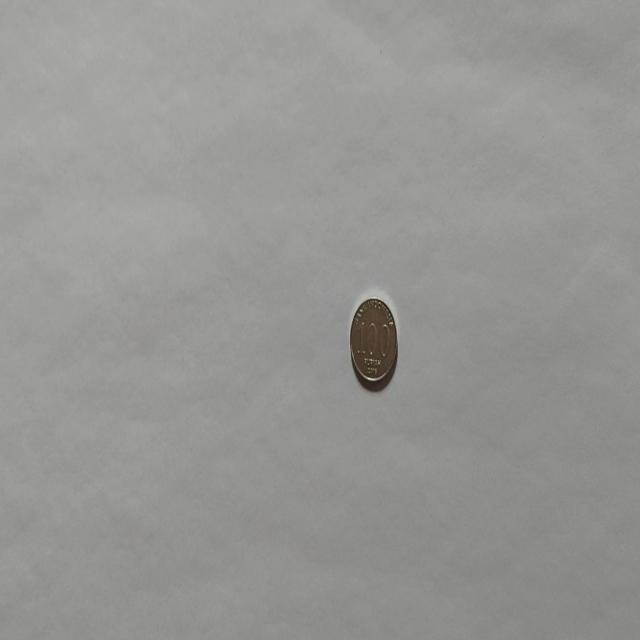seratus rupiah: (348, 294, 398, 388)
